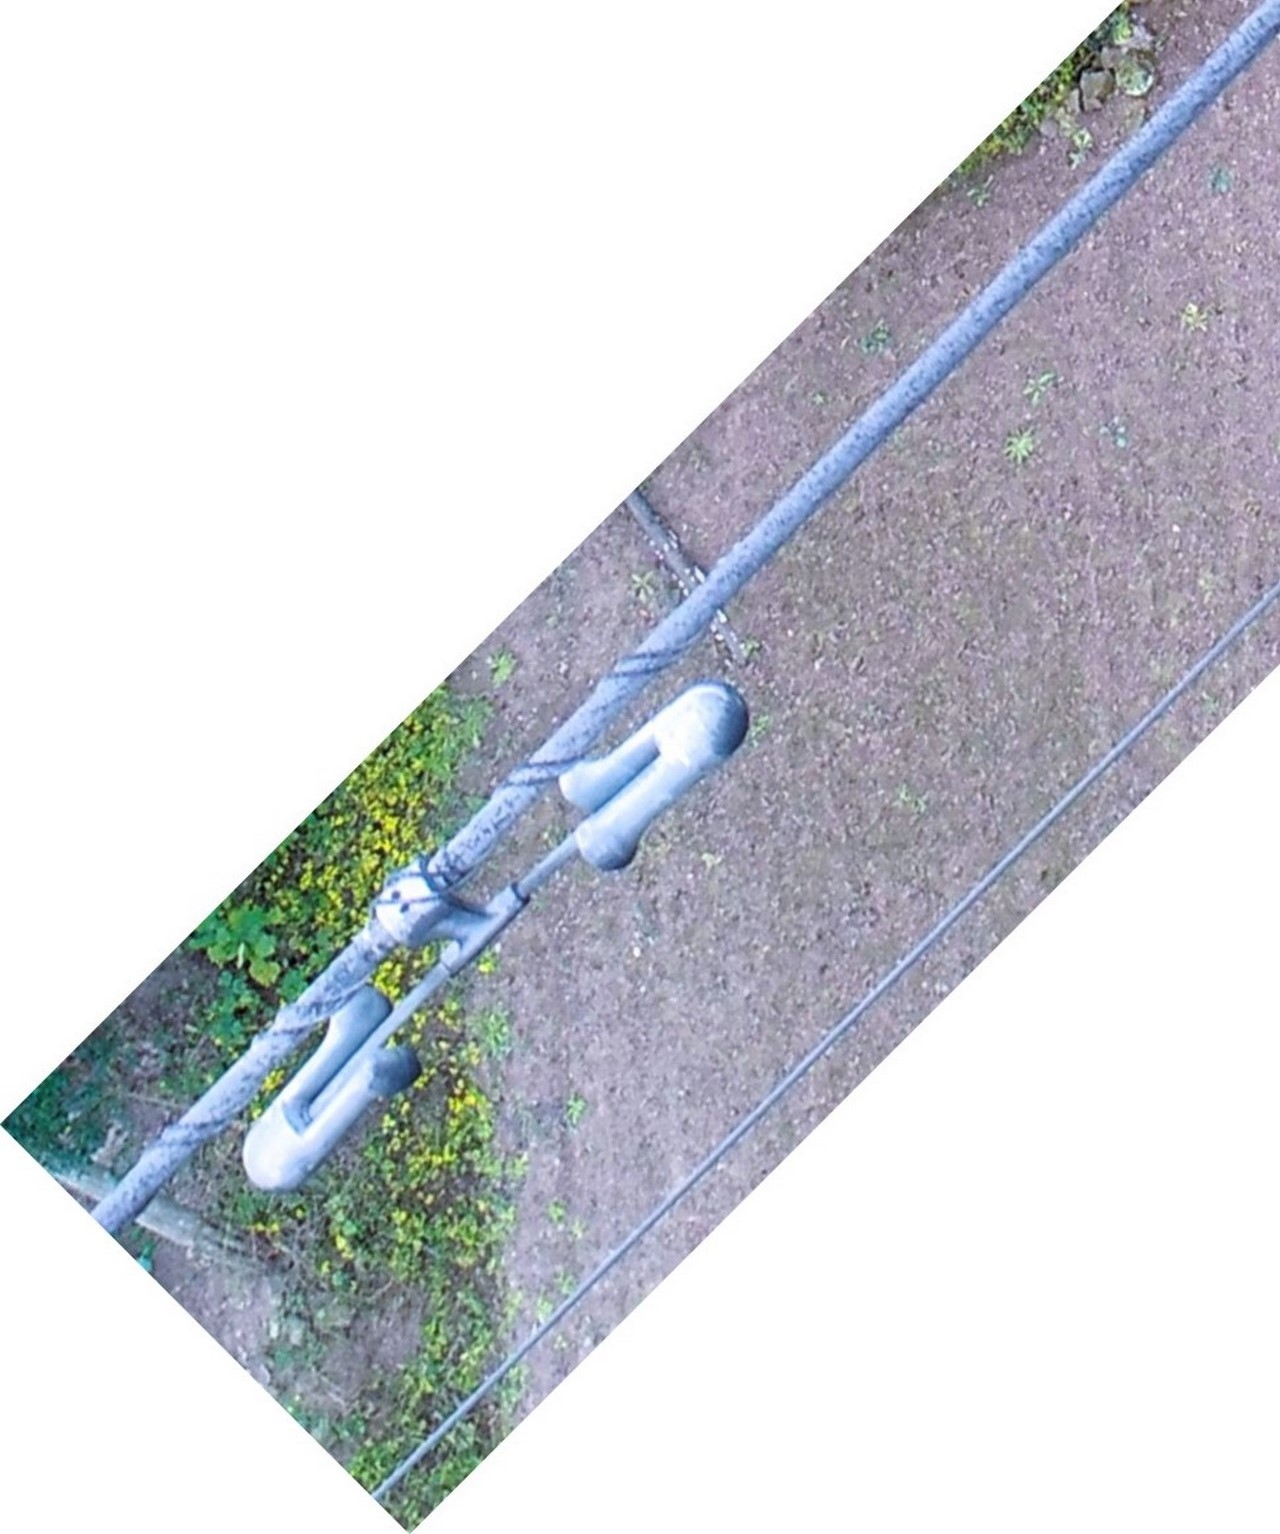Shockproof hammer: (203, 647, 779, 1214)
